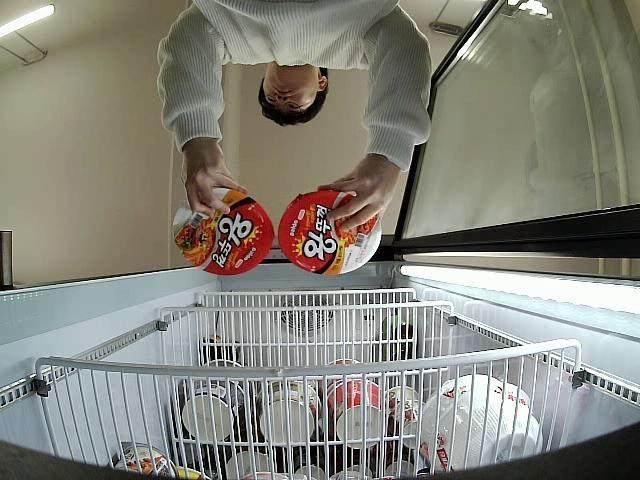10_wangTtukkeong: (172, 187, 274, 276), (280, 190, 381, 274)
